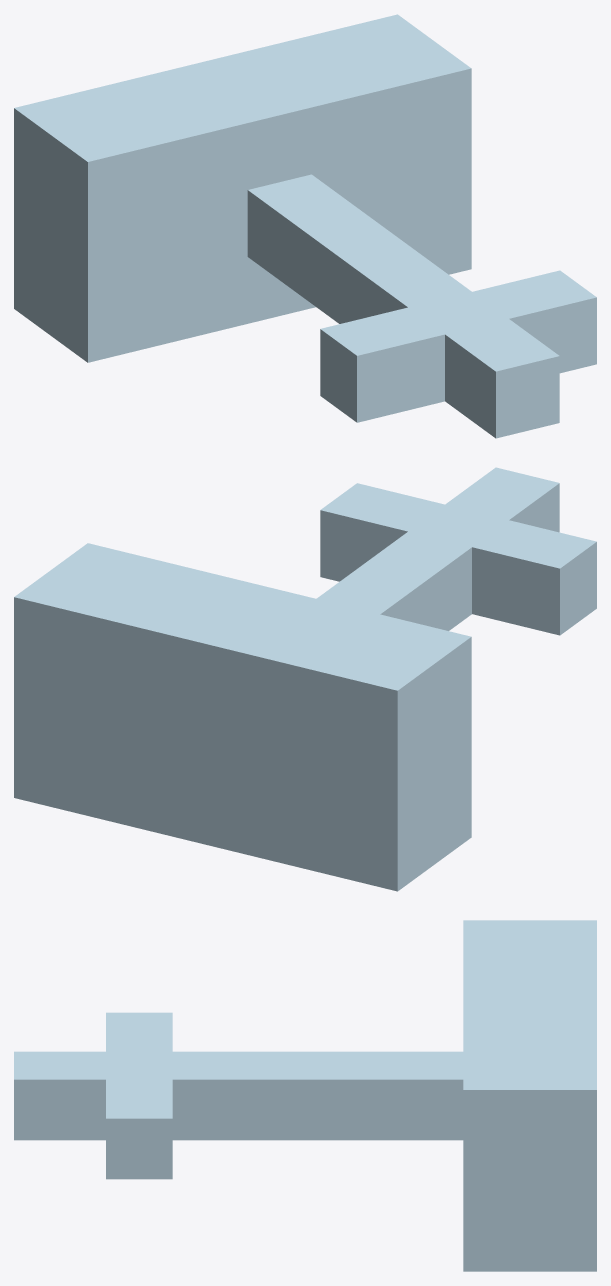
3 renders of one model, top to bottom at view 1: azimuth 30°, elevation 25°; view 2: azimuth 150°, elevation 25°; view 3: azimuth 270°, elevation 25°, orthographic. The views are drawn at different scales.
Parts seen in each view (by area): view 1: PA-427-F; view 2: PA-427-F; view 3: PA-427-F.
Boxes of the visible parts, <box> form: PA-427-F: <box>14,14,596,438</box>; PA-427-F: <box>14,467,596,891</box>; PA-427-F: <box>14,920,596,1271</box>.
Size of the model in its own units: 122 by 60.96 by 177.
